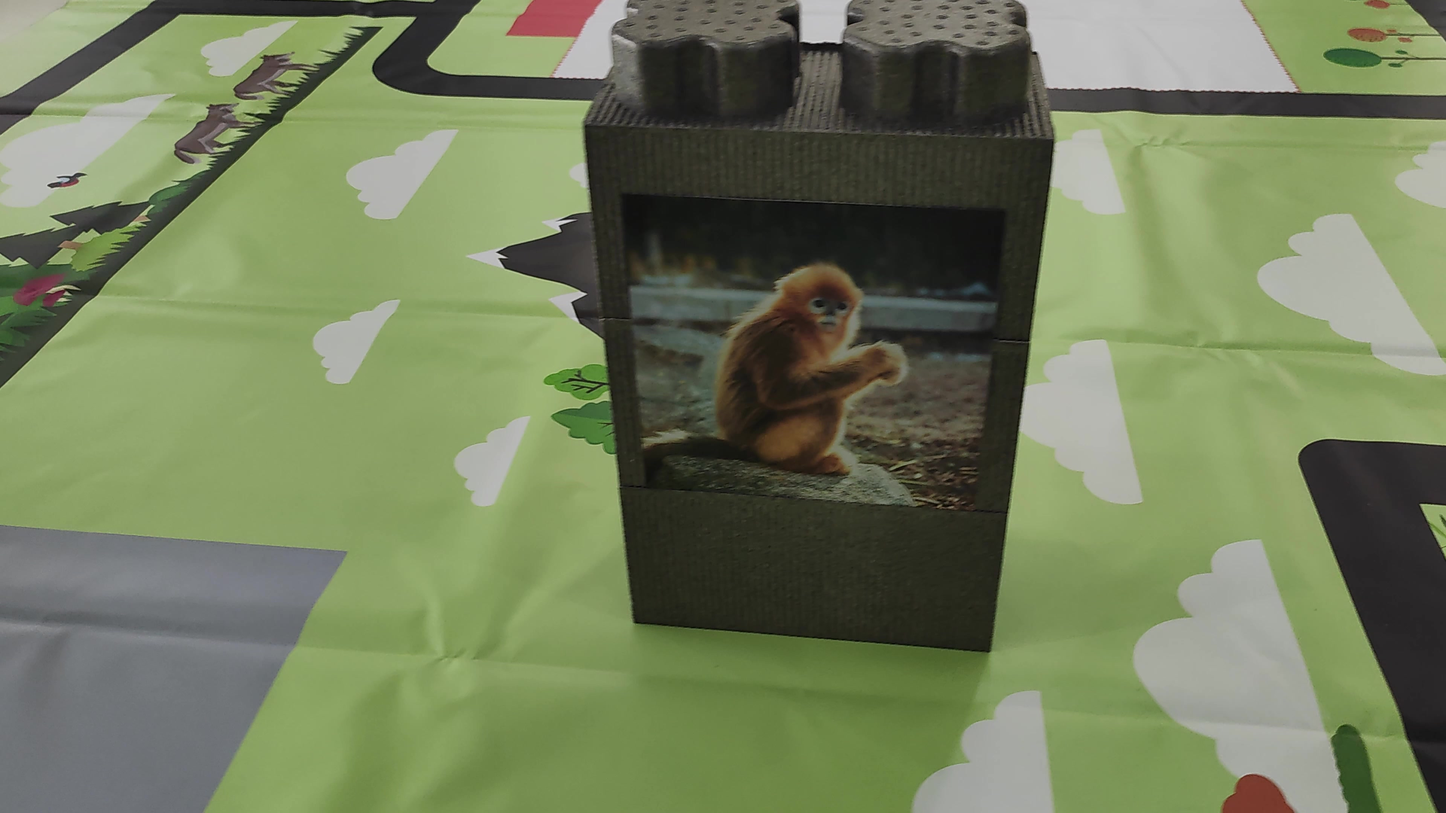monkey: (671, 247, 918, 484)
